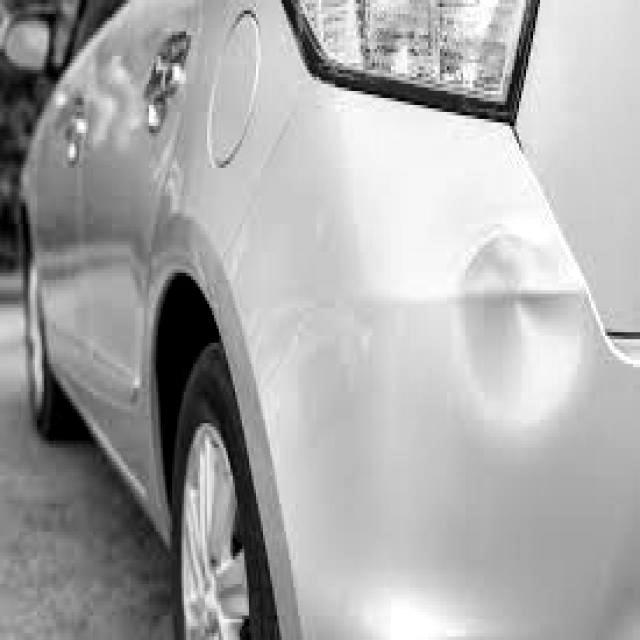rear-bumper-dent: (235, 67, 637, 637)
